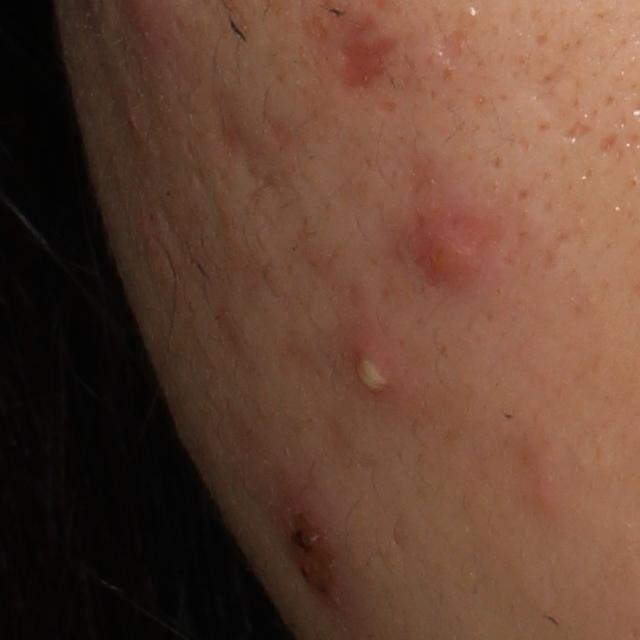atrophic_scar: (207, 91, 298, 198), (505, 47, 575, 130), (329, 17, 400, 96), (433, 30, 467, 65), (560, 116, 593, 138), (597, 131, 621, 155)
nodule: (272, 484, 343, 610)
papule: (410, 213, 493, 293), (519, 465, 584, 524)
pustule: (345, 336, 397, 398)
